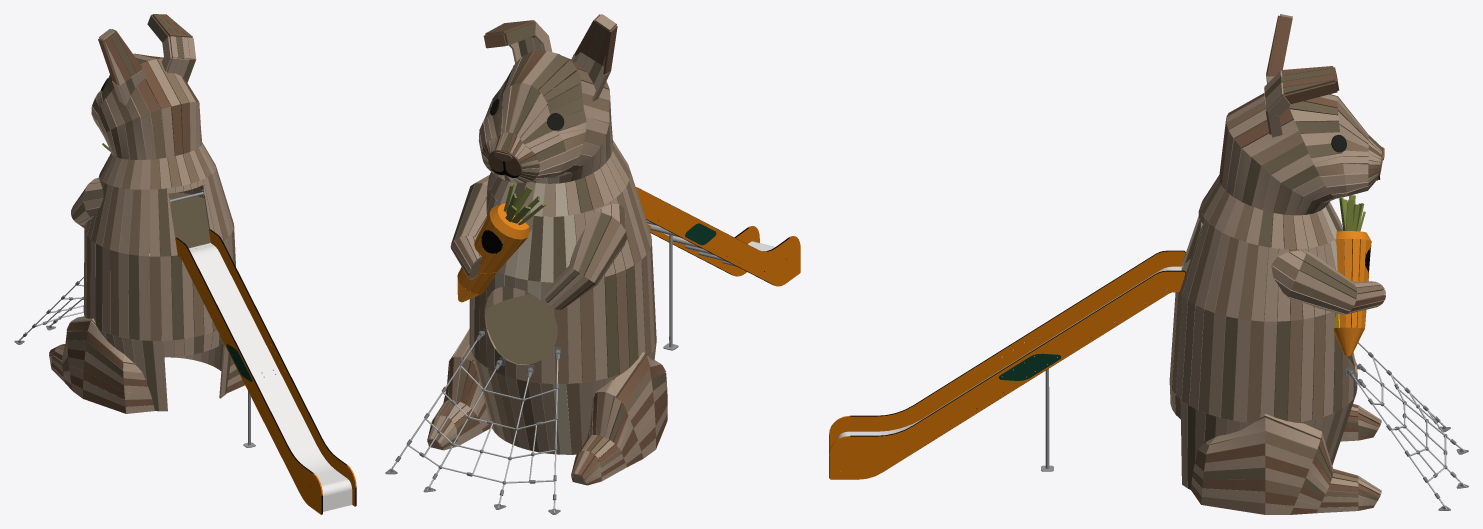
The model's file is rgss-61-p-rabbit.glb.
3 views of the same model, side by side, from view 1: azimuth 30°, elevation 25°; view 2: azimuth 150°, elevation 25°; view 3: azimuth 270°, elevation 25° (orthographic). The views are drawn at different scales.
Parts seen in each view (by area): view 1: Body1062, Body2028, Body2022_2, Body1_GeomAdjust011, Body1036; view 2: Body1062, Body2022_2, Body1036, Body1_GeomAdjust011, Body1_GeomAdjust001, Body3_GeomAdjust003, Body2028; view 3: Body1062, Body2022_2, Body1_GeomAdjust011, Body1036, Body2028, Body3_GeomAdjust003.
Part boxes in pixels (<box>): Body1062: <box>14,14,275,413</box>; Body2028: <box>100,78,352,511</box>; Body2022_2: <box>175,230,356,514</box>; Body1_GeomAdjust011: <box>175,229,356,513</box>; Body1036: <box>17,277,83,341</box>; Body1062: <box>385,14,687,514</box>; Body2022_2: <box>636,187,800,286</box>; Body1036: <box>389,340,558,512</box>; Body1_GeomAdjust011: <box>481,161,789,285</box>; Body1_GeomAdjust001: <box>646,220,736,350</box>; Body3_GeomAdjust003: <box>391,328,561,509</box>; Body2028: <box>490,99,774,251</box>; Body1062: <box>831,14,1468,514</box>; Body2022_2: <box>829,251,1185,479</box>; Body1_GeomAdjust011: <box>829,176,1380,477</box>; Body1036: <box>1354,342,1464,509</box>; Body2028: <box>837,134,1346,439</box>; Body3_GeomAdjust003: <box>1113,289,1462,507</box>.
Bounding box in the file's own units: 2.04 × 4.49 × 6.02.
7 materials, 7 textured.
